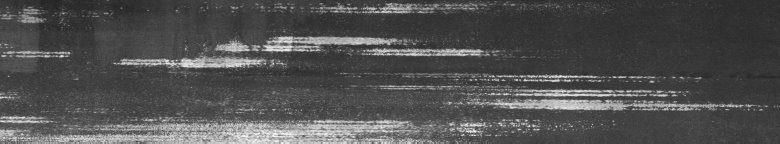kb: (4, 4, 484, 136)
